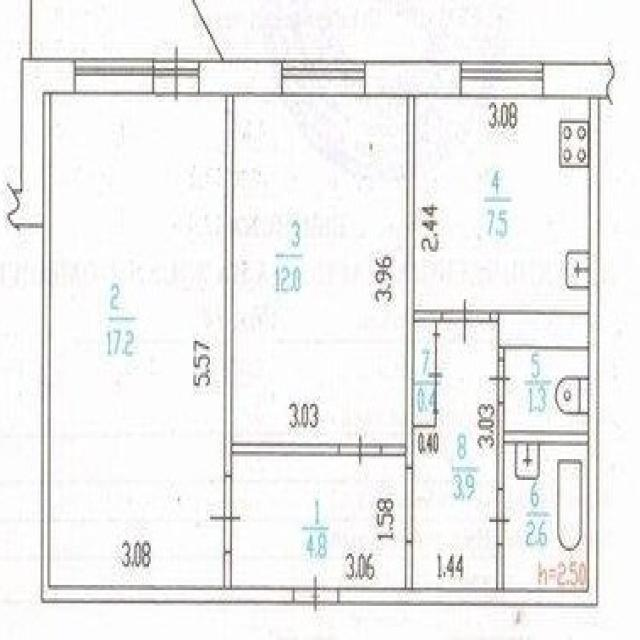Bathrooms: (506, 447, 587, 586), (506, 349, 587, 430)
Corridors: (234, 456, 403, 585), (415, 324, 495, 586)
Doors: (154, 45, 200, 105), (208, 477, 241, 551), (443, 296, 491, 345), (294, 573, 337, 617), (340, 431, 380, 468), (488, 490, 512, 544), (486, 361, 512, 402), (405, 469, 413, 542)
LBwalls: (6, 58, 74, 229), (499, 312, 589, 348), (366, 61, 459, 95), (200, 61, 281, 95), (544, 62, 610, 96)
Offices: (51, 95, 223, 583), (235, 97, 404, 441), (416, 98, 587, 307)
Walls: (338, 97, 600, 609), (40, 93, 294, 605), (224, 97, 340, 476), (380, 97, 442, 469), (496, 403, 589, 489), (495, 544, 505, 590), (405, 541, 412, 588), (498, 349, 505, 362), (491, 311, 499, 322)
Windows: (459, 61, 543, 97), (282, 60, 365, 96), (74, 57, 154, 93)
